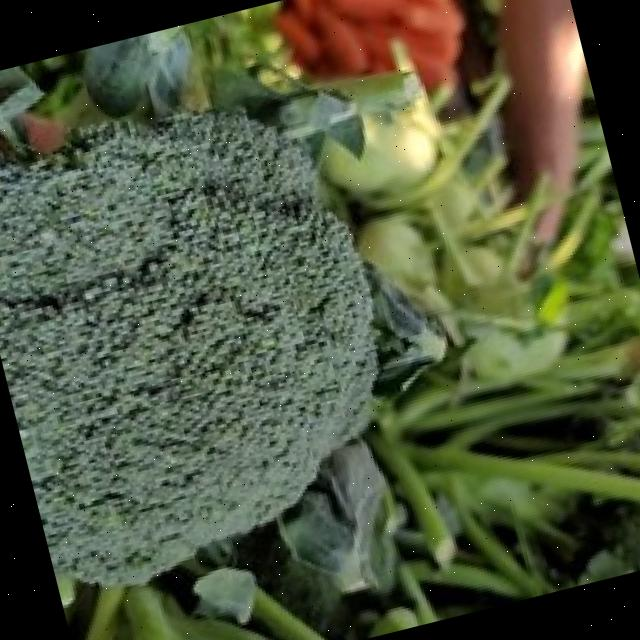Broccoli: (0, 114, 375, 583), (0, 115, 375, 583)
